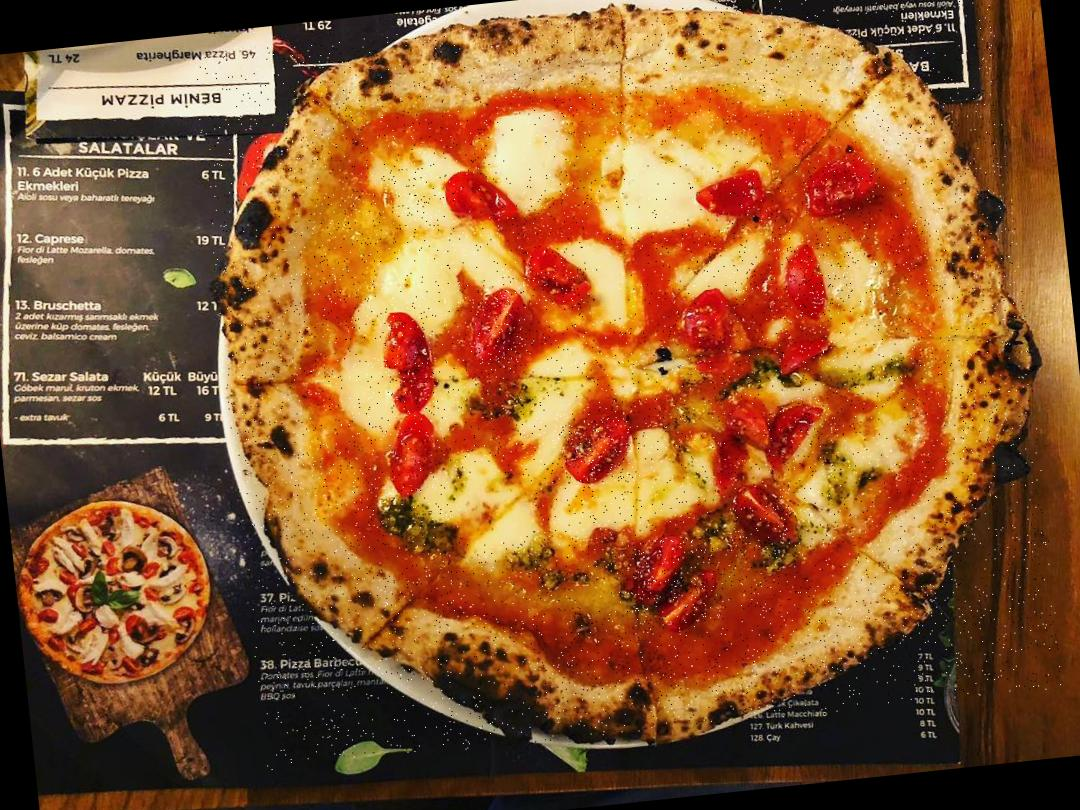Cheese: (601, 144, 694, 228), (570, 472, 702, 520), (494, 112, 564, 194), (458, 475, 536, 539), (399, 244, 488, 299), (518, 358, 582, 430), (586, 246, 636, 321), (390, 164, 440, 230), (834, 262, 856, 304)
Pizza: (192, 0, 1065, 772)
Tomatoes: (626, 534, 720, 630), (380, 304, 438, 414), (380, 414, 448, 504), (760, 398, 834, 477), (559, 414, 636, 486), (727, 483, 801, 557), (444, 166, 526, 232), (522, 240, 596, 312), (471, 284, 533, 366), (802, 151, 884, 211), (780, 242, 841, 322), (694, 163, 774, 216), (680, 288, 740, 348), (778, 328, 840, 380), (724, 399, 773, 453)
